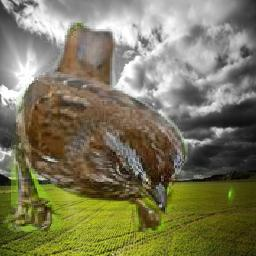Sparrow: (1, 20, 190, 232)
